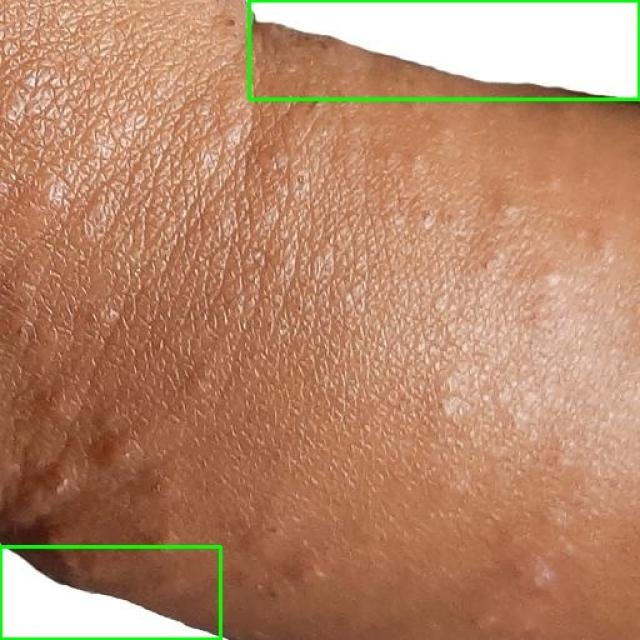Contact Dermatitis: (249, 0, 639, 99), (0, 546, 220, 639)
